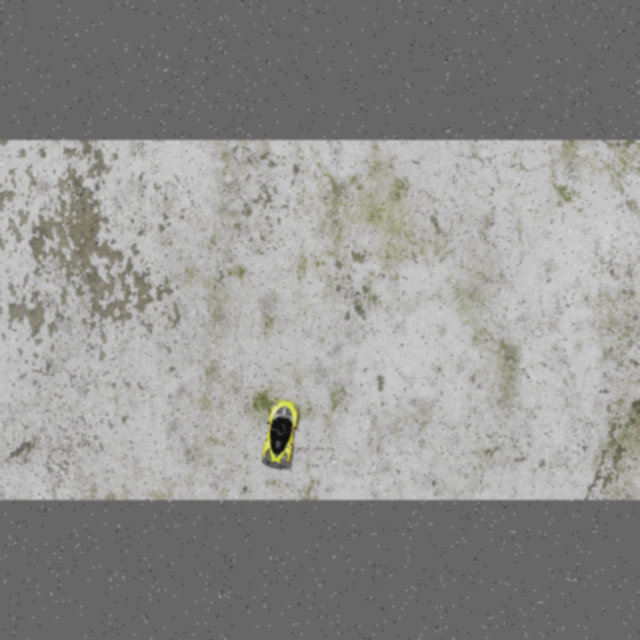car: (258, 397, 301, 471)
